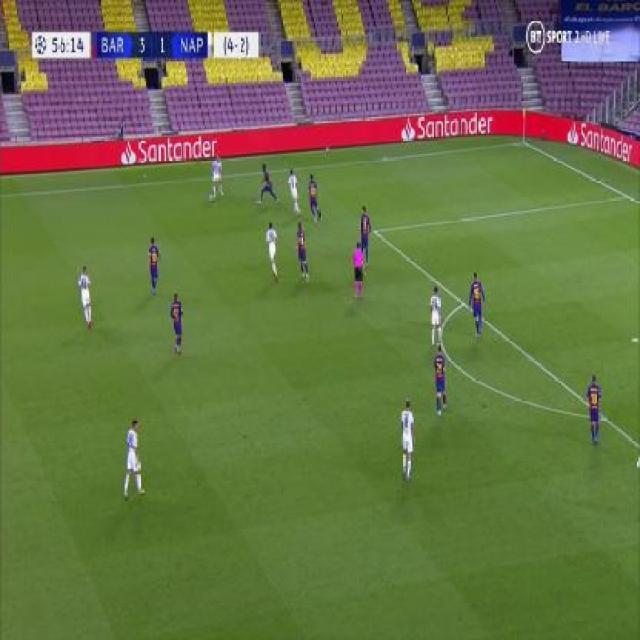ball: (209, 193, 214, 202)
player: (122, 415, 144, 503), (398, 393, 417, 481), (467, 269, 486, 340), (586, 368, 603, 447), (431, 344, 447, 418), (76, 261, 93, 329), (169, 289, 186, 357), (256, 162, 279, 207), (264, 219, 280, 282), (145, 234, 161, 296), (351, 236, 365, 302), (358, 202, 372, 267), (429, 284, 443, 349), (296, 220, 310, 283), (306, 171, 322, 224), (208, 151, 224, 200), (286, 167, 302, 215)
